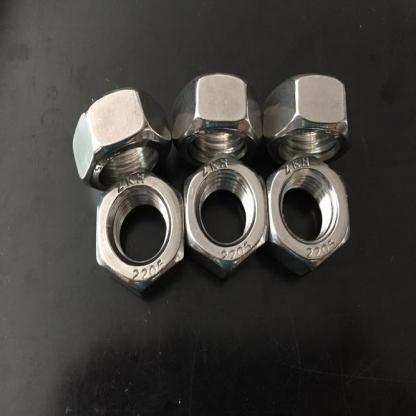FOD: (90, 165, 186, 288), (71, 86, 173, 200), (267, 149, 352, 279), (185, 152, 270, 279), (258, 66, 354, 170), (175, 70, 263, 171)
